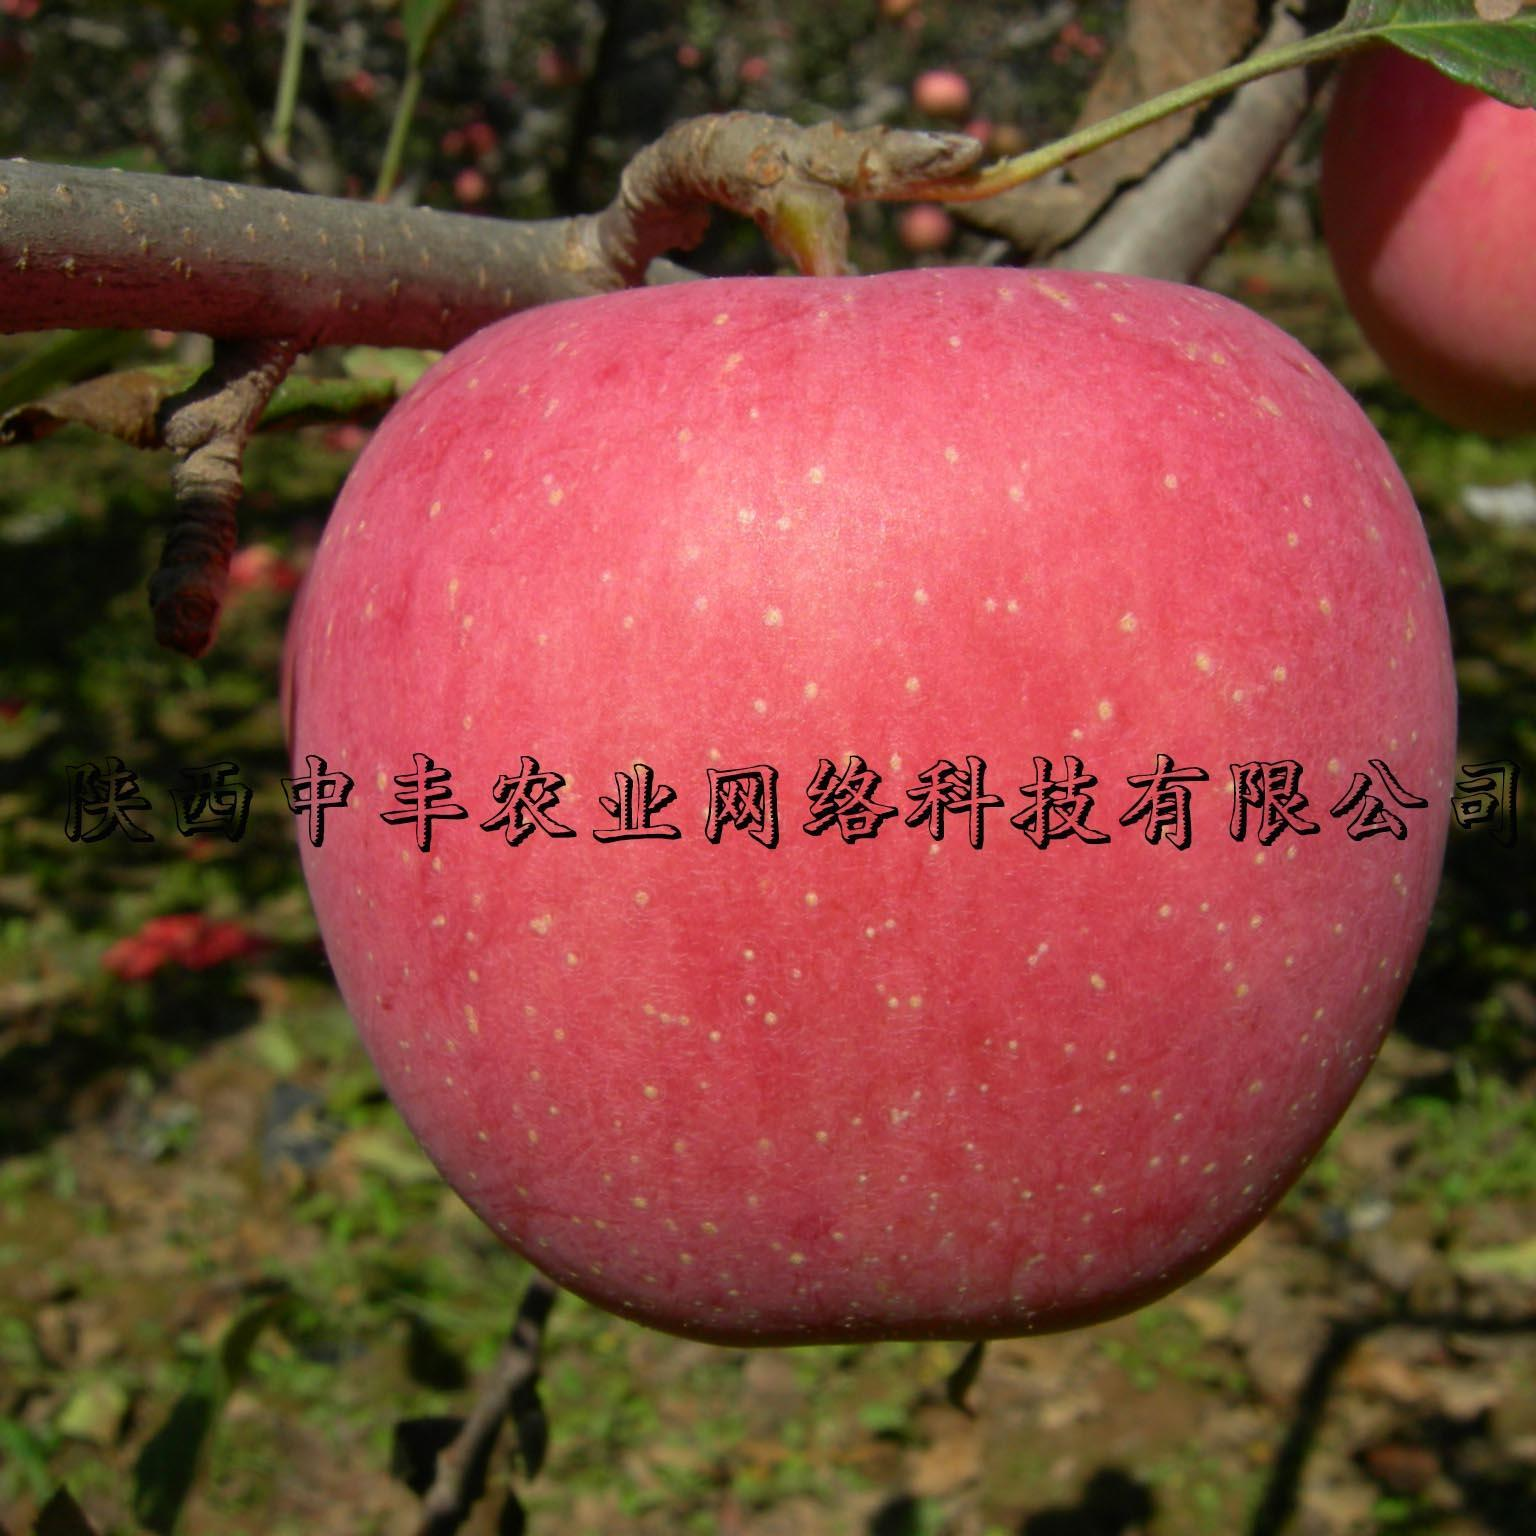apple: (269, 283, 1467, 1324), (1310, 21, 1535, 428)
